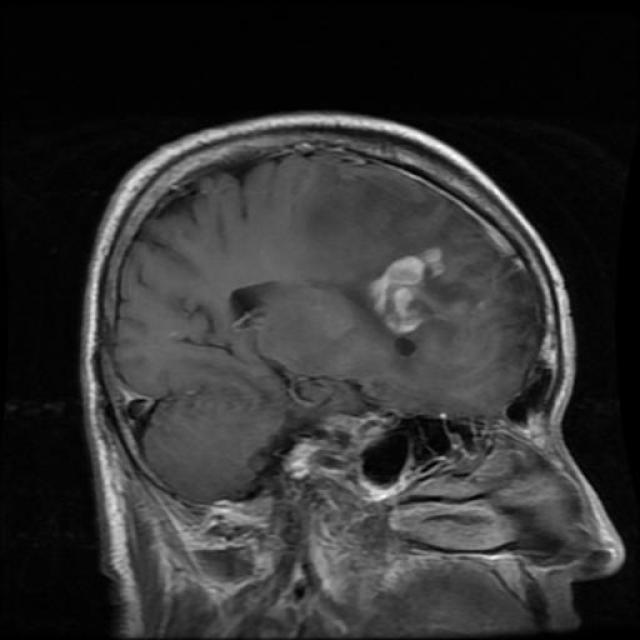glioma: (368, 246, 447, 342)
